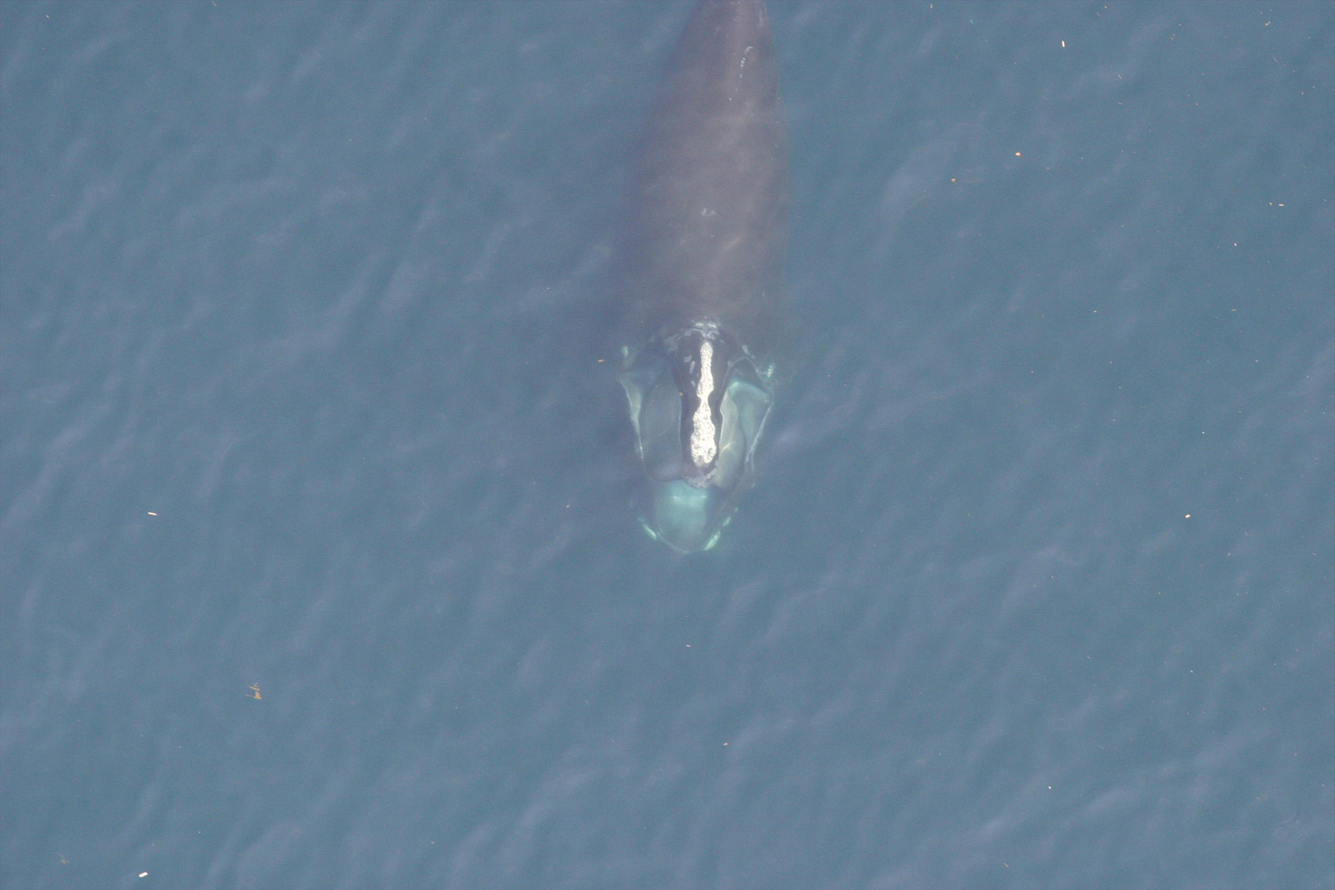whale: (588, 0, 808, 564)
